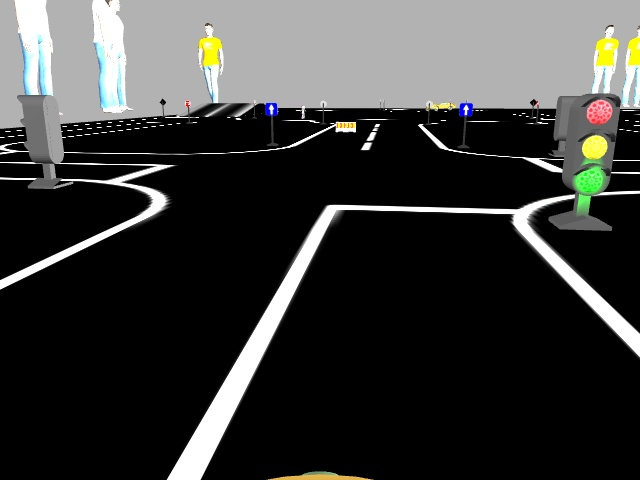ClosedRoadStand: (335, 121, 355, 131)
OneWay: (460, 102, 471, 115), (265, 102, 276, 114)
TrafficLight: (562, 91, 619, 198)
